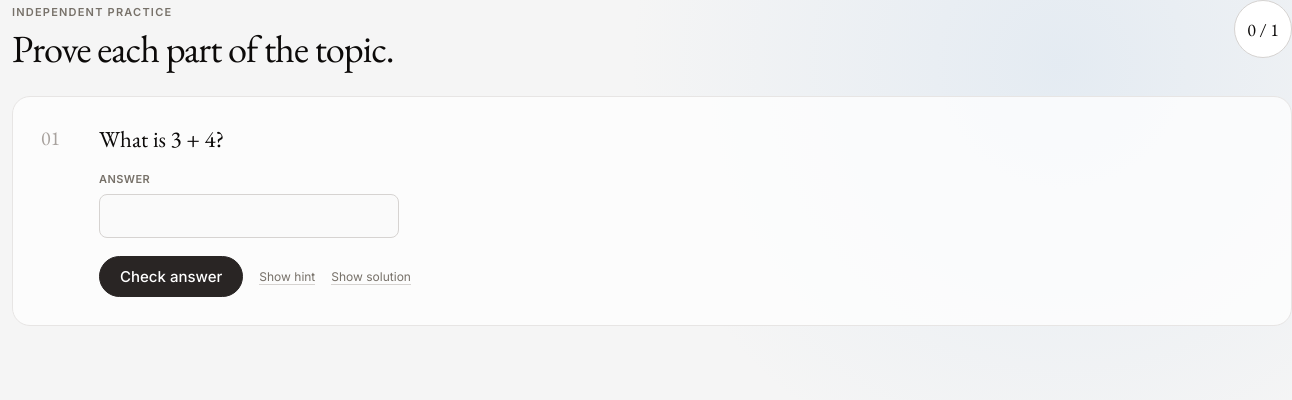
it: practice evidence › records a correct result and completes the bank
In the number field: (249, 216) x1=99 y1=194 x2=399 y2=238, type "7"
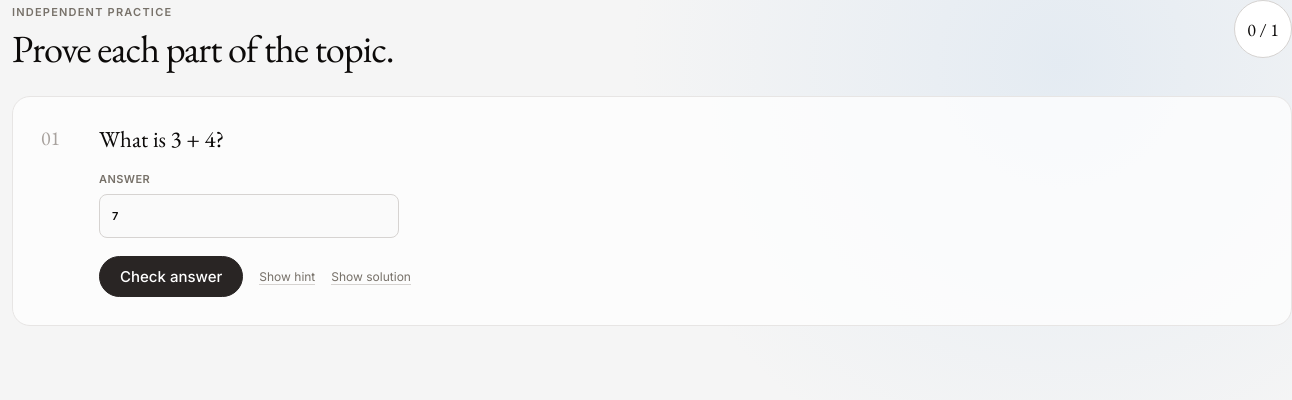
Click the button "Check answer": (171, 277) x1=99 y1=256 x2=243 y2=297
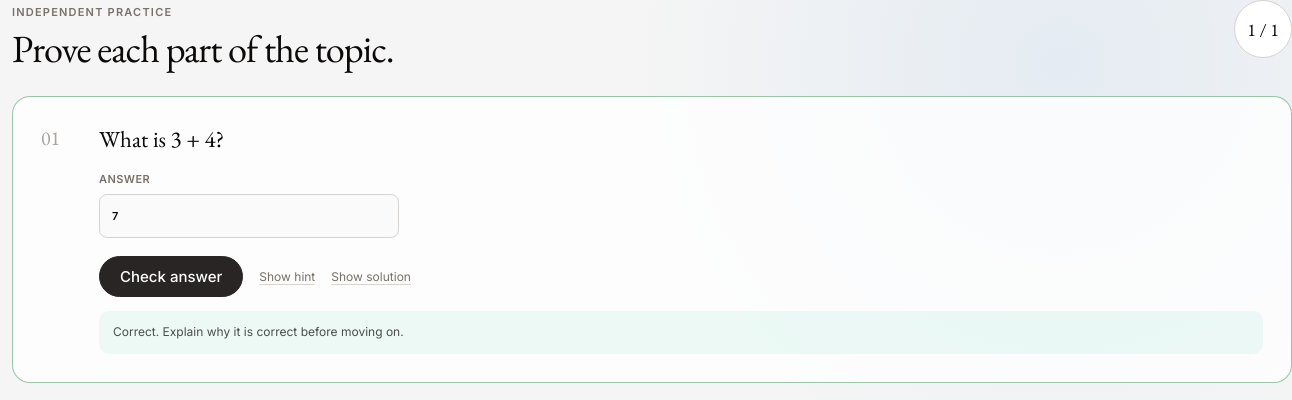
Now the text "Correct. Explain why it is correct before moving on." is shown, box x1=99 y1=311 x2=1263 y2=354
